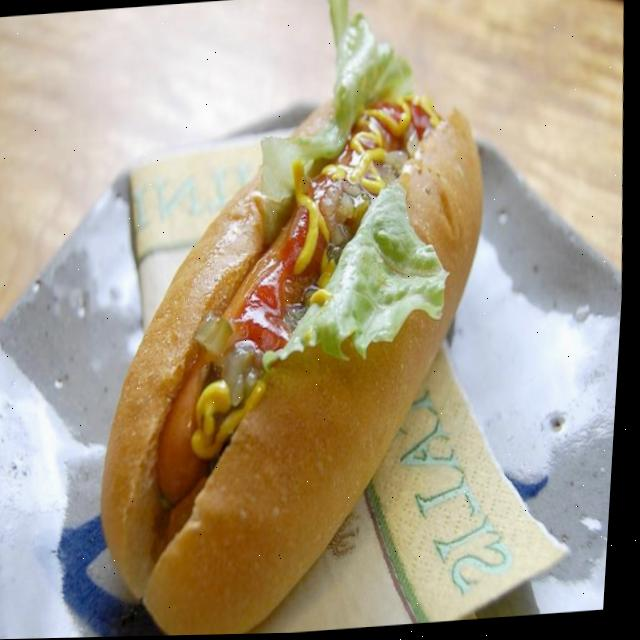汉堡快餐: (270, 0, 580, 594)
